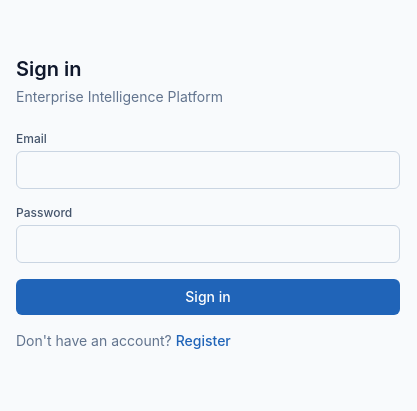
it: LoginPage › shows the backend error message on invalid credentials, without navigating
This screenshot has width=417, height=411.
Step 1. Type "wrong@example.com" into the field labelled "Email" → (208, 170), box [16,150,400,188]
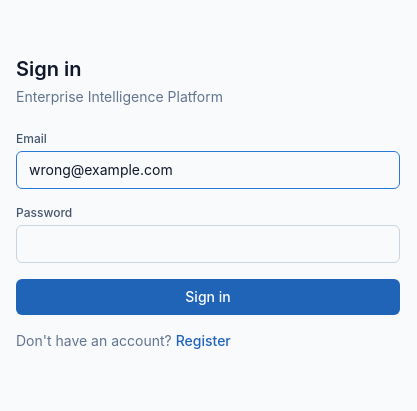
Step 2. Type "WrongPassword" into the password field labelled "Password" → (208, 244), box [16,224,400,262]
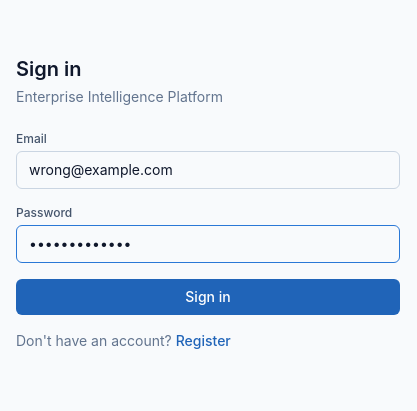
Step 3. Click the button "Sign in" → (208, 296), box [16,278,400,314]
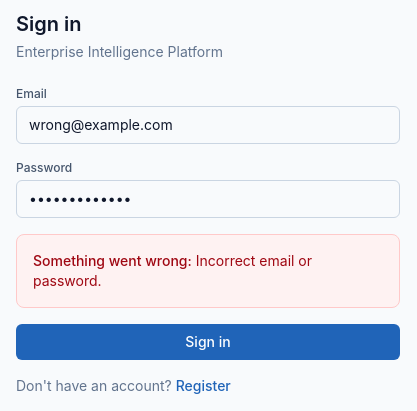
Check: the text "Incorrect email or password." is shown, box [33,252,312,288]
